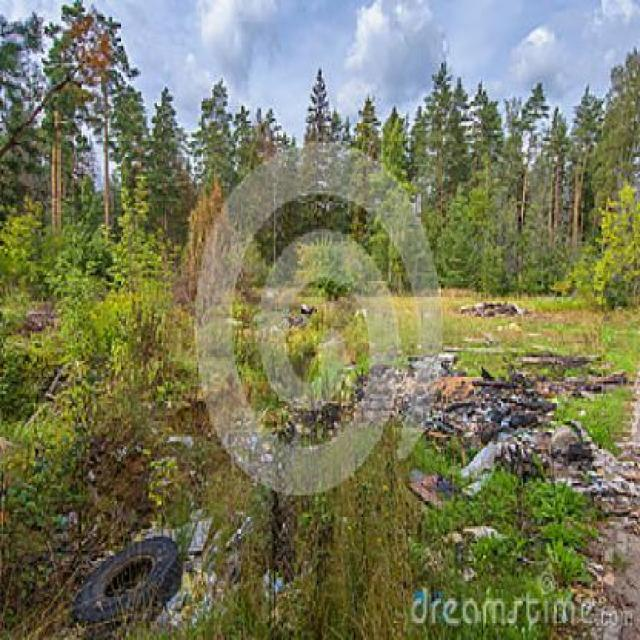garbage: (30, 449, 286, 638), (371, 340, 632, 512), (54, 313, 217, 499), (340, 353, 460, 423), (262, 296, 339, 342), (455, 291, 528, 325)
